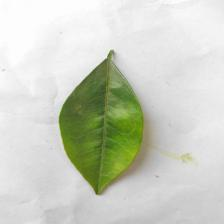black spot: (42, 81, 105, 126)
greening: (112, 114, 147, 182)
